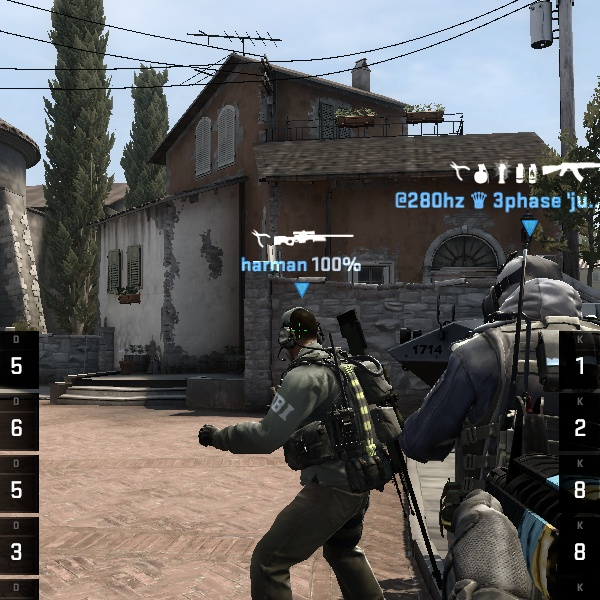ct_body: (418, 245, 589, 576), (228, 298, 398, 599)
ct_head: (485, 250, 581, 341), (266, 301, 335, 372)
